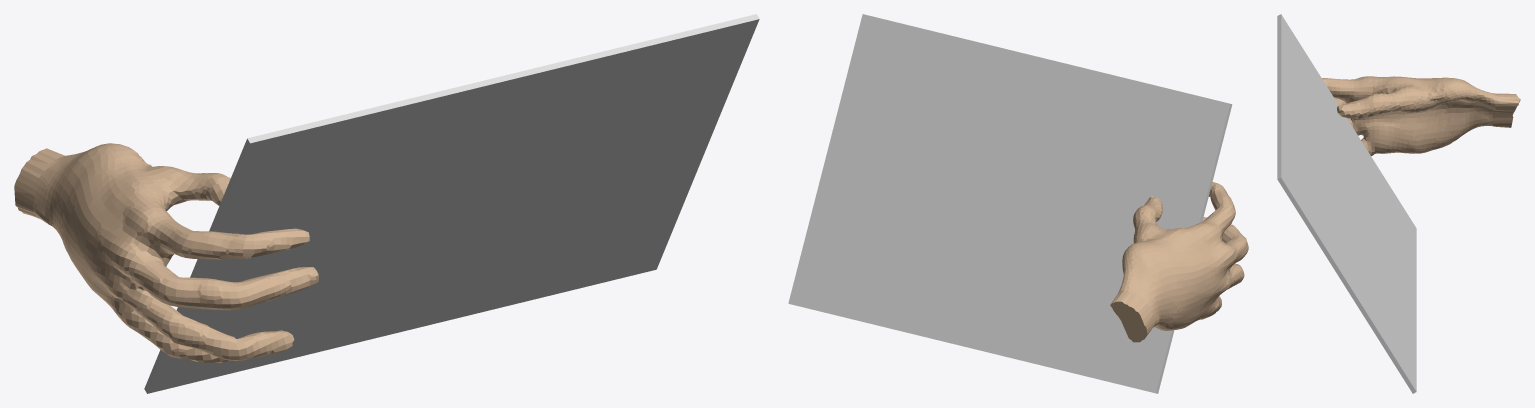
The model's file is HANDS-with technical drawing.fbx.
3 views of the same model, side by side, from view 1: azimuth 30°, elevation 25°; view 2: azimuth 150°, elevation 25°; view 3: azimuth 270°, elevation 25° (orthographic). The views are drawn at different scales.
Visible parts, largest first — view 1: Plane.001, Object03.001; view 2: Plane.001, Object03.001; view 3: Plane.001, Object03.001.
Part boxes in pixels (box(x1,y1,x2,y2)): Plane.001: box(144, 14, 759, 393); Object03.001: box(14, 143, 318, 362); Plane.001: box(788, 14, 1232, 393); Object03.001: box(1110, 182, 1248, 342); Plane.001: box(1277, 14, 1416, 393); Object03.001: box(1322, 76, 1520, 155).
Size of the model in its own units: 1284 by 701 by 714.
